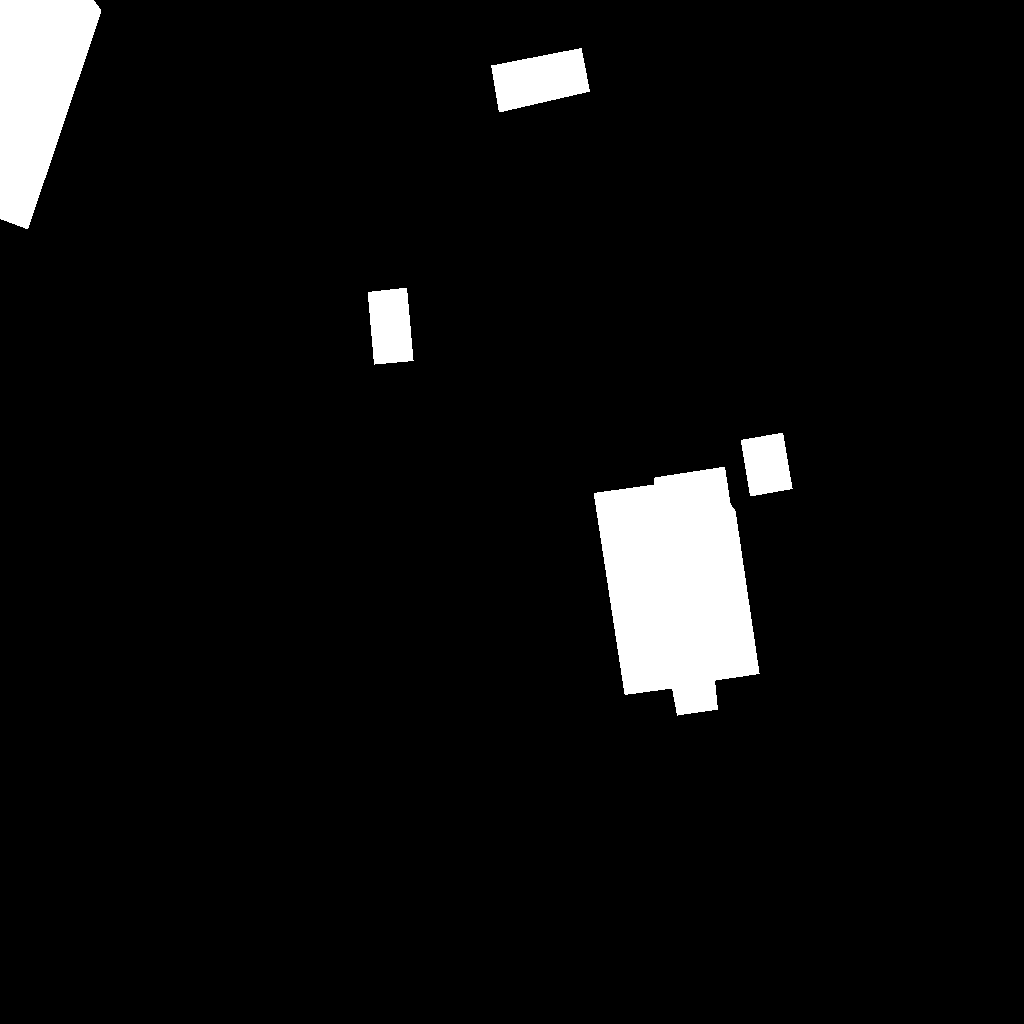building: (594, 467, 760, 716), (0, 0, 102, 230), (491, 48, 591, 113), (368, 288, 414, 365), (741, 433, 793, 497)
